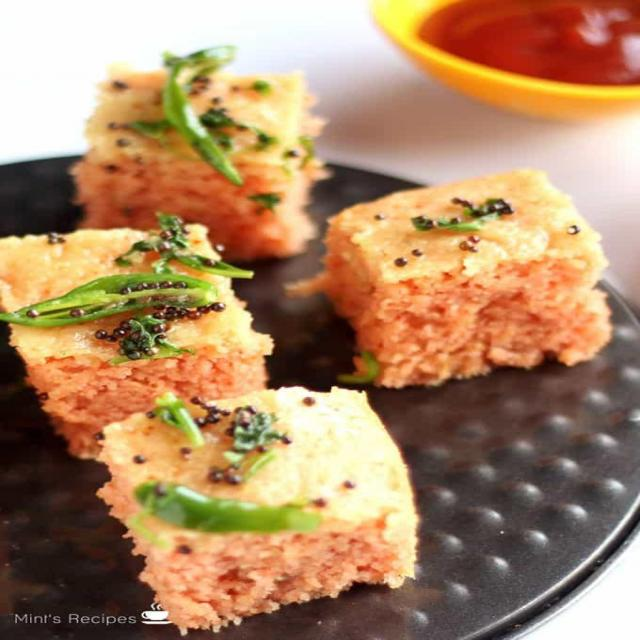dhokla: (7, 59, 586, 593)
